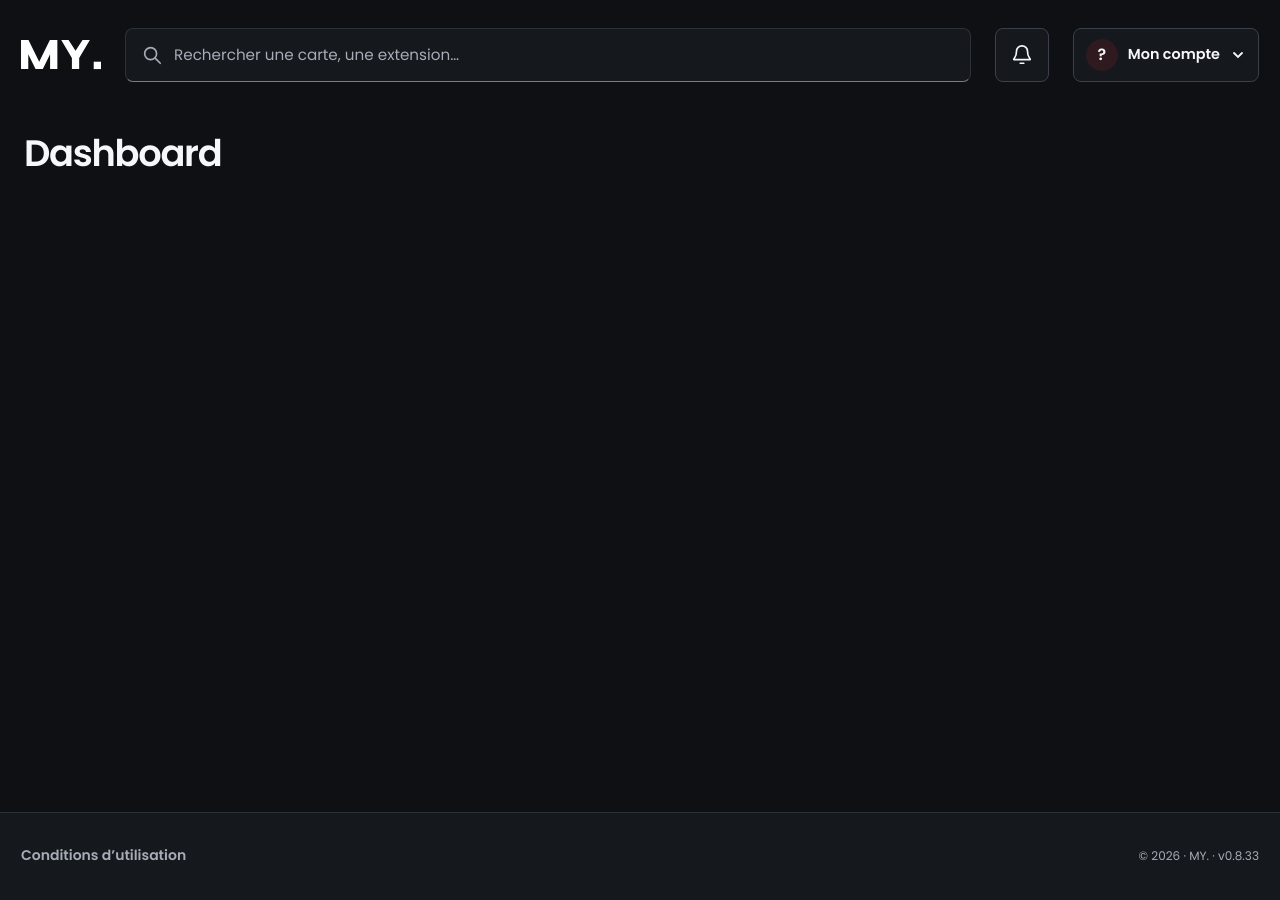
it: chargement de contenu annulé par viewer : aucune écriture ni réponse privée tardive
The image size is (1280, 900).
Click the button named "Notifications —" at (1022, 55), box [995, 28, 1049, 82]
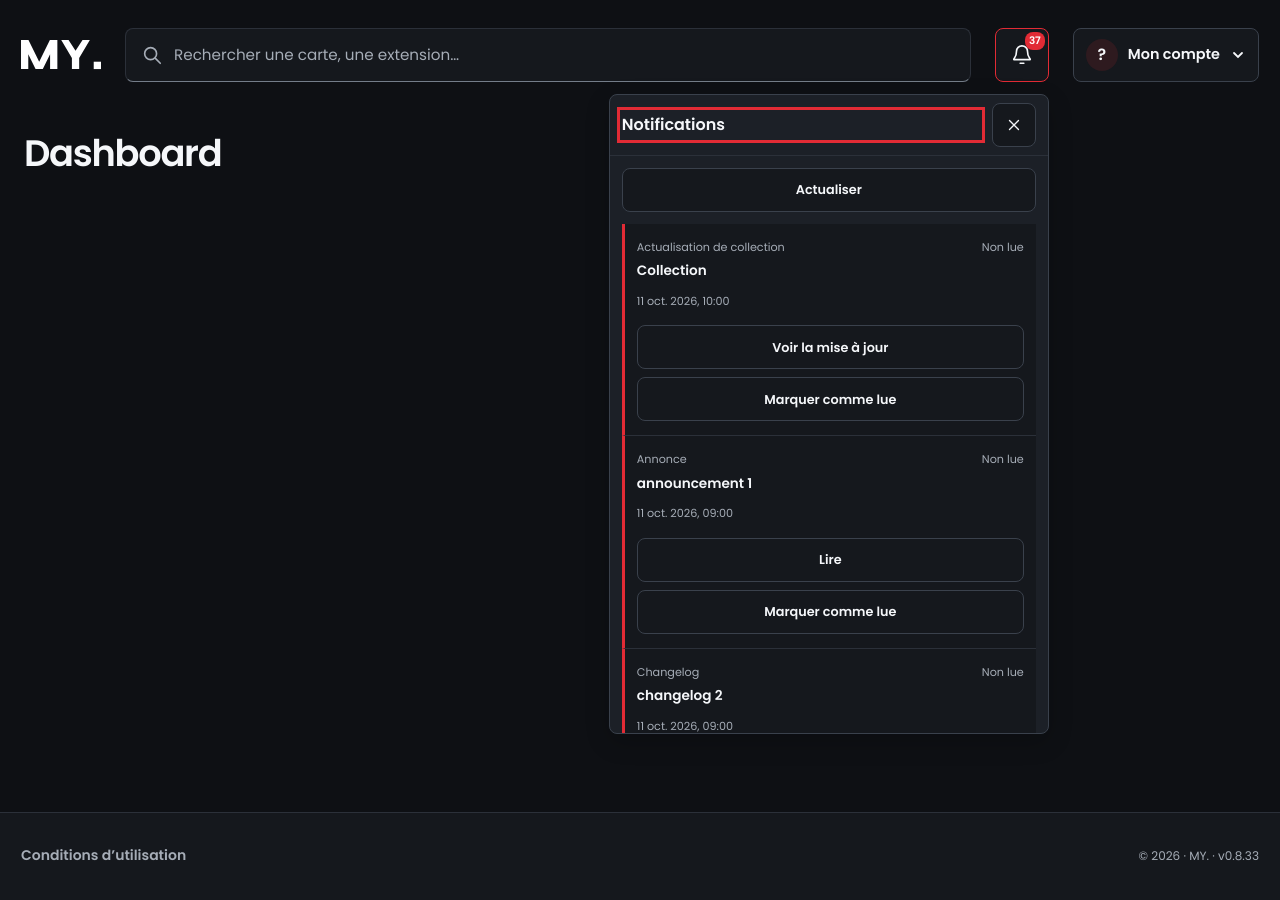
Click the button "Lire" at (830, 560), box [637, 538, 1024, 582]
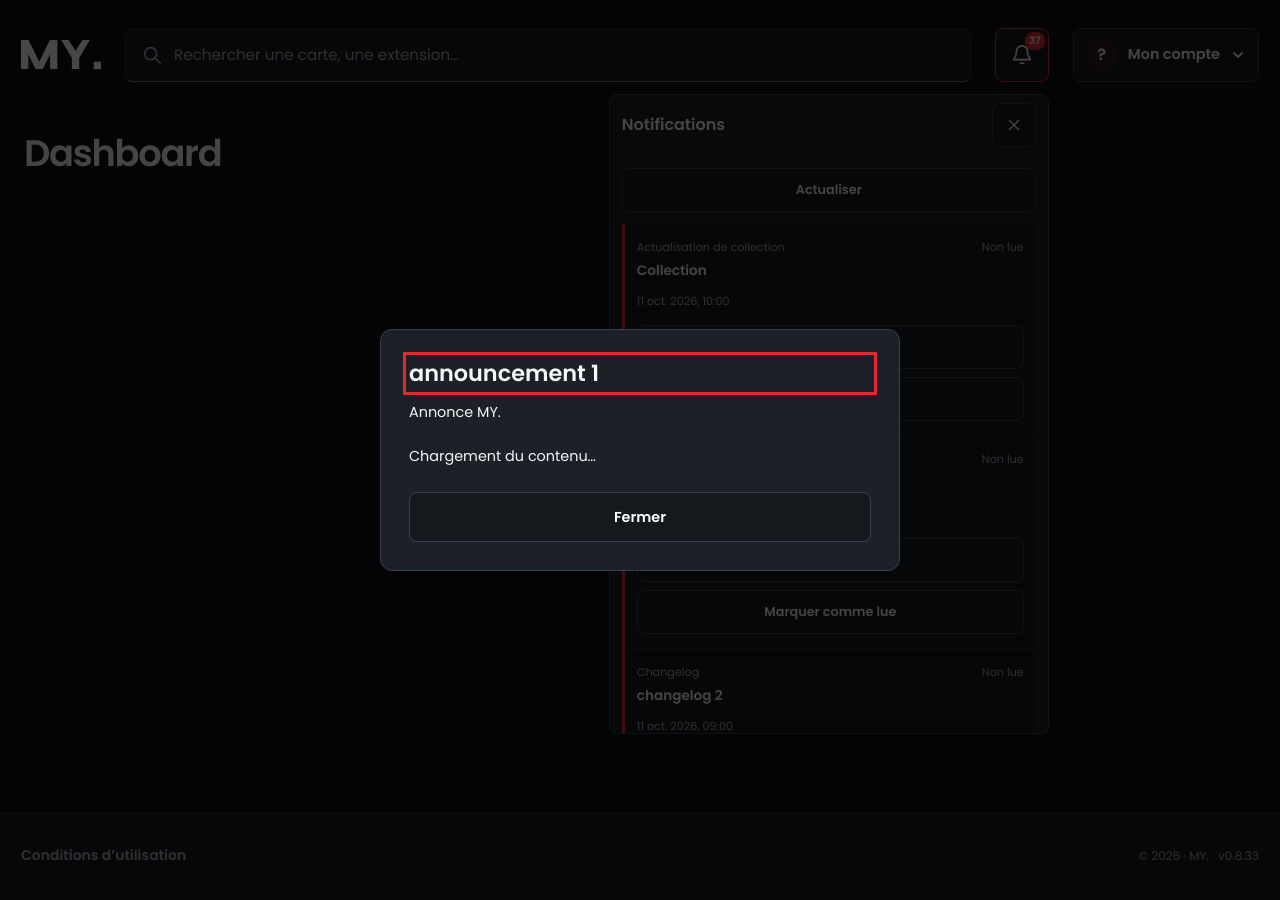
Expected: the text "Chargement du contenu…" is shown, [409, 446, 596, 466]
